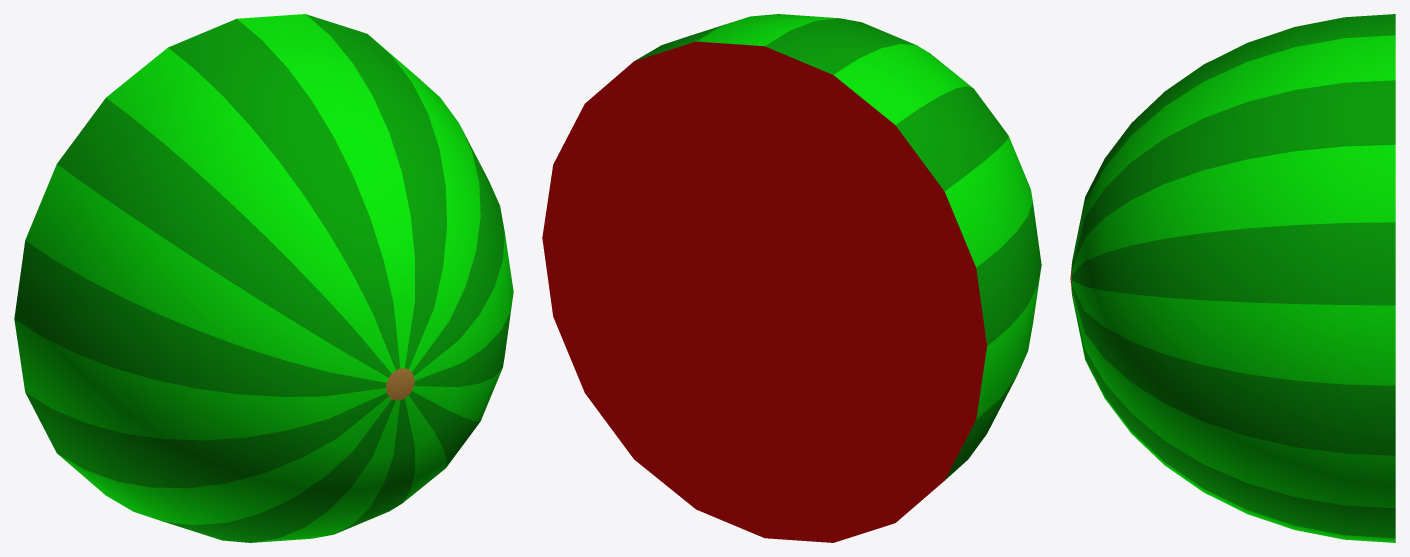
File: watermelon_left.fbx
The picture shows the model from 3 angles, left to right: view 1: azimuth 30°, elevation 25°; view 2: azimuth 150°, elevation 25°; view 3: azimuth 270°, elevation 25°; orthographic projection.
Parts seen in each view (by area): view 1: pasted__polySurface2; view 2: pasted__polySurface2; view 3: pasted__polySurface2.
Part boxes in pixels (bbox=[...]): pasted__polySurface2: bbox=[14, 14, 513, 542]; pasted__polySurface2: bbox=[542, 14, 1041, 542]; pasted__polySurface2: bbox=[1070, 14, 1395, 542].
Bounding box in the file's own units: 2 × 2.11 × 1.28.
